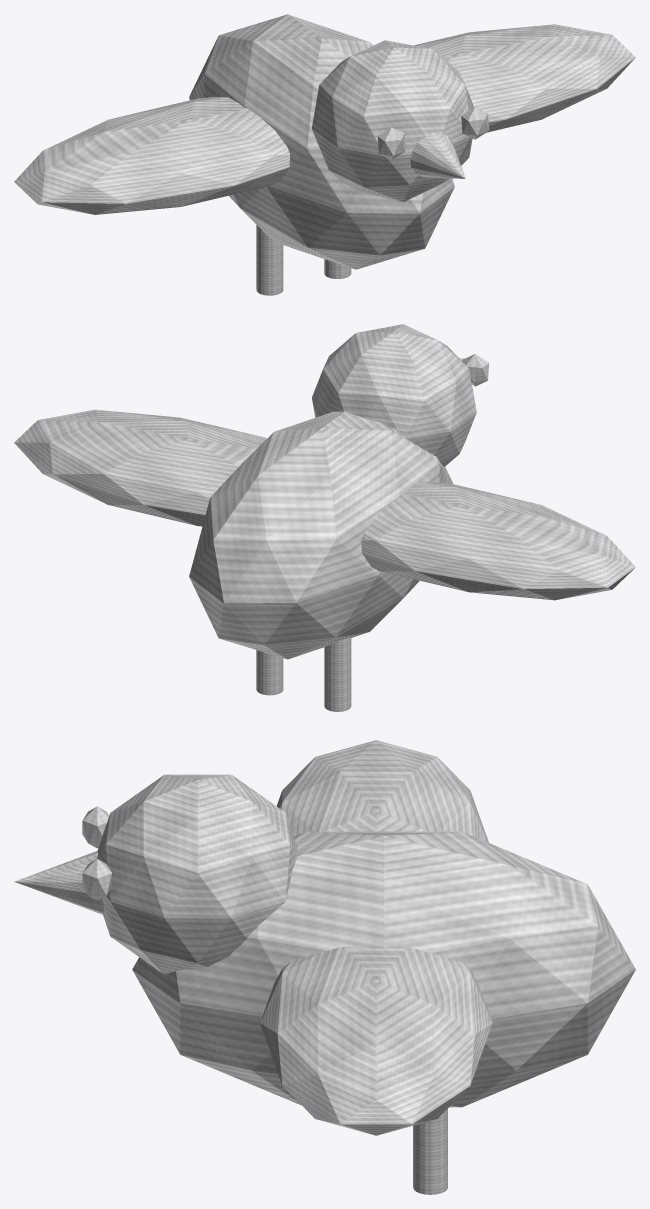
Rendered from fauna-cave-bat_variant_d.glb.
The picture shows the model from 3 angles, top to bottom: view 1: azimuth 30°, elevation 25°; view 2: azimuth 150°, elevation 25°; view 3: azimuth 270°, elevation 25°; orthographic projection. The views are drawn at different scales.
Parts seen in each view (by area): view 1: Bird body, Wing.006, Bird head, Wing.007, Beak, Leg.006, Eye.007, Eye, Leg.007; view 2: Bird body, Wing.006, Wing.007, Bird head, Leg.006, Leg.007, Eye.007; view 3: Bird body, Wing.007, Bird head, Wing.006, Leg.007, Beak, Eye, Eye.007.
Part boxes in pixels (<box>): Bird body: <box>189,14,454,269</box>; Wing.006: <box>14,96,289,214</box>; Bird head: <box>312,40,474,202</box>; Wing.007: <box>413,24,635,132</box>; Beak: <box>410,133,465,178</box>; Leg.006: <box>256,225,283,295</box>; Eye.007: <box>377,127,405,159</box>; Eye: <box>461,107,488,139</box>; Leg.007: <box>324,259,351,278</box>; Bird body: <box>189,411,453,659</box>; Wing.006: <box>361,482,635,600</box>; Wing.007: <box>14,409,267,526</box>; Bird head: <box>312,324,476,466</box>; Leg.006: <box>324,637,351,711</box>; Leg.007: <box>256,650,283,695</box>; Eye.007: <box>462,354,488,386</box>; Bird body: <box>132,831,635,1107</box>; Wing.007: <box>260,947,492,1135</box>; Bird head: <box>97,774,297,974</box>; Wing.006: <box>277,740,488,842</box>; Leg.007: <box>413,1109,447,1194</box>; Beak: <box>14,851,103,914</box>; Eye: <box>82,859,111,900</box>; Eye.007: <box>82,806,108,848</box>.
Size of what is drawn, in the model's own units: 2.28 by 1.1 by 1.6.
Materials: 3 (3 with a texture image).
